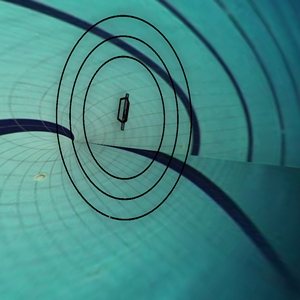circle: (34, 4, 209, 232)
submarine: (103, 89, 150, 142)
